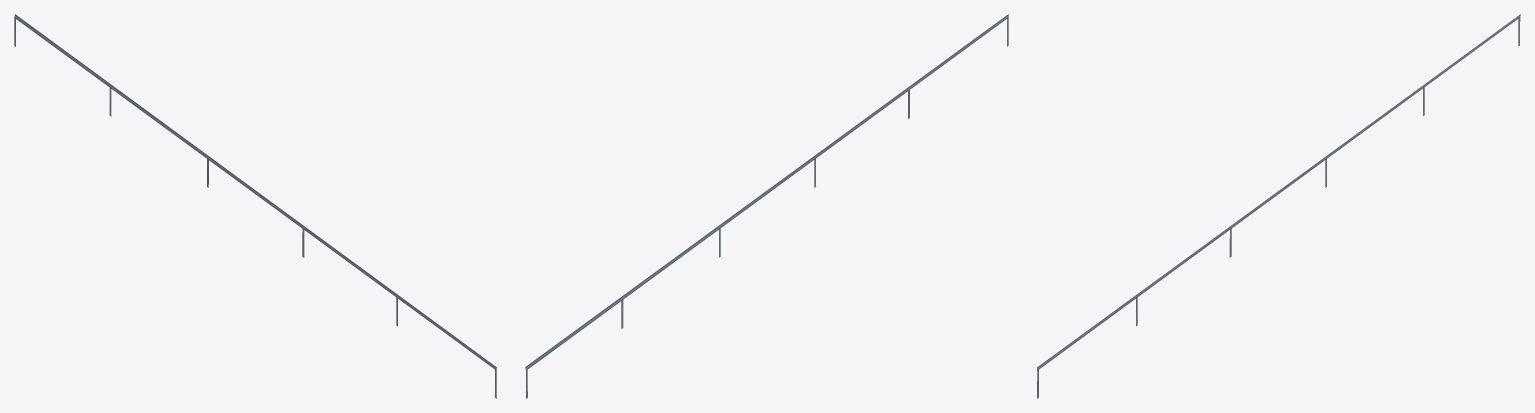
The model's file is waterfence.glb.
The picture shows the model from 3 angles, left to right: view 1: azimuth 30°, elevation 25°; view 2: azimuth 150°, elevation 25°; view 3: azimuth 330°, elevation 25°; orthographic projection.
Visible parts, largest first — view 1: waterfence; view 2: waterfence; view 3: waterfence.
Part boxes in pixels (<box>): waterfence: <box>14,14,496,398</box>; waterfence: <box>525,14,1008,398</box>; waterfence: <box>1037,14,1520,398</box>.
Bounding box in the file's own units: 2.98 × 106 × 2926.
Materials: 1 (1 with a texture image).
